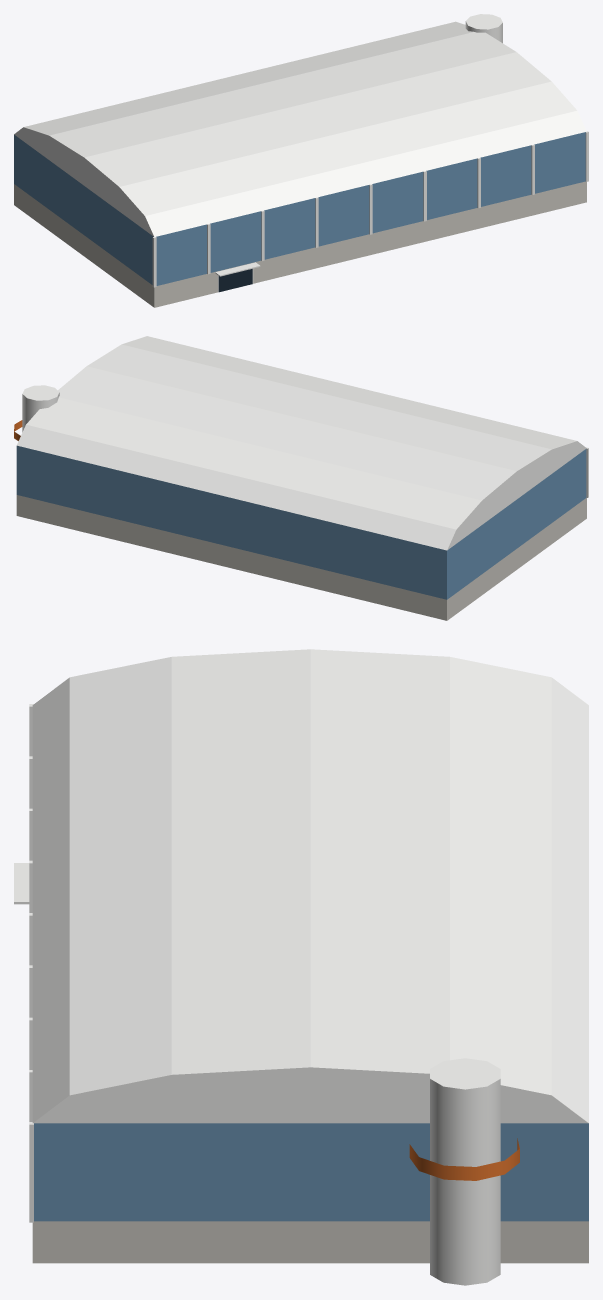
The model's file is piscine_couverte.glb.
The picture shows the model from 3 angles, top to bottom: view 1: azimuth 30°, elevation 25°; view 2: azimuth 150°, elevation 25°; view 3: azimuth 270°, elevation 25°; orthographic projection. The views are drawn at different scales.
Visible parts, largest first — view 1: piscine_couverte; view 2: piscine_couverte; view 3: piscine_couverte.
Part boxes in pixels (x1,y1,x2,y2): piscine_couverte: [14, 14, 588, 307]; piscine_couverte: [14, 336, 588, 620]; piscine_couverte: [14, 649, 588, 1285].
Size of the model in its own units: 68.73 by 14 by 37.2.
1 material, 1 textured.
